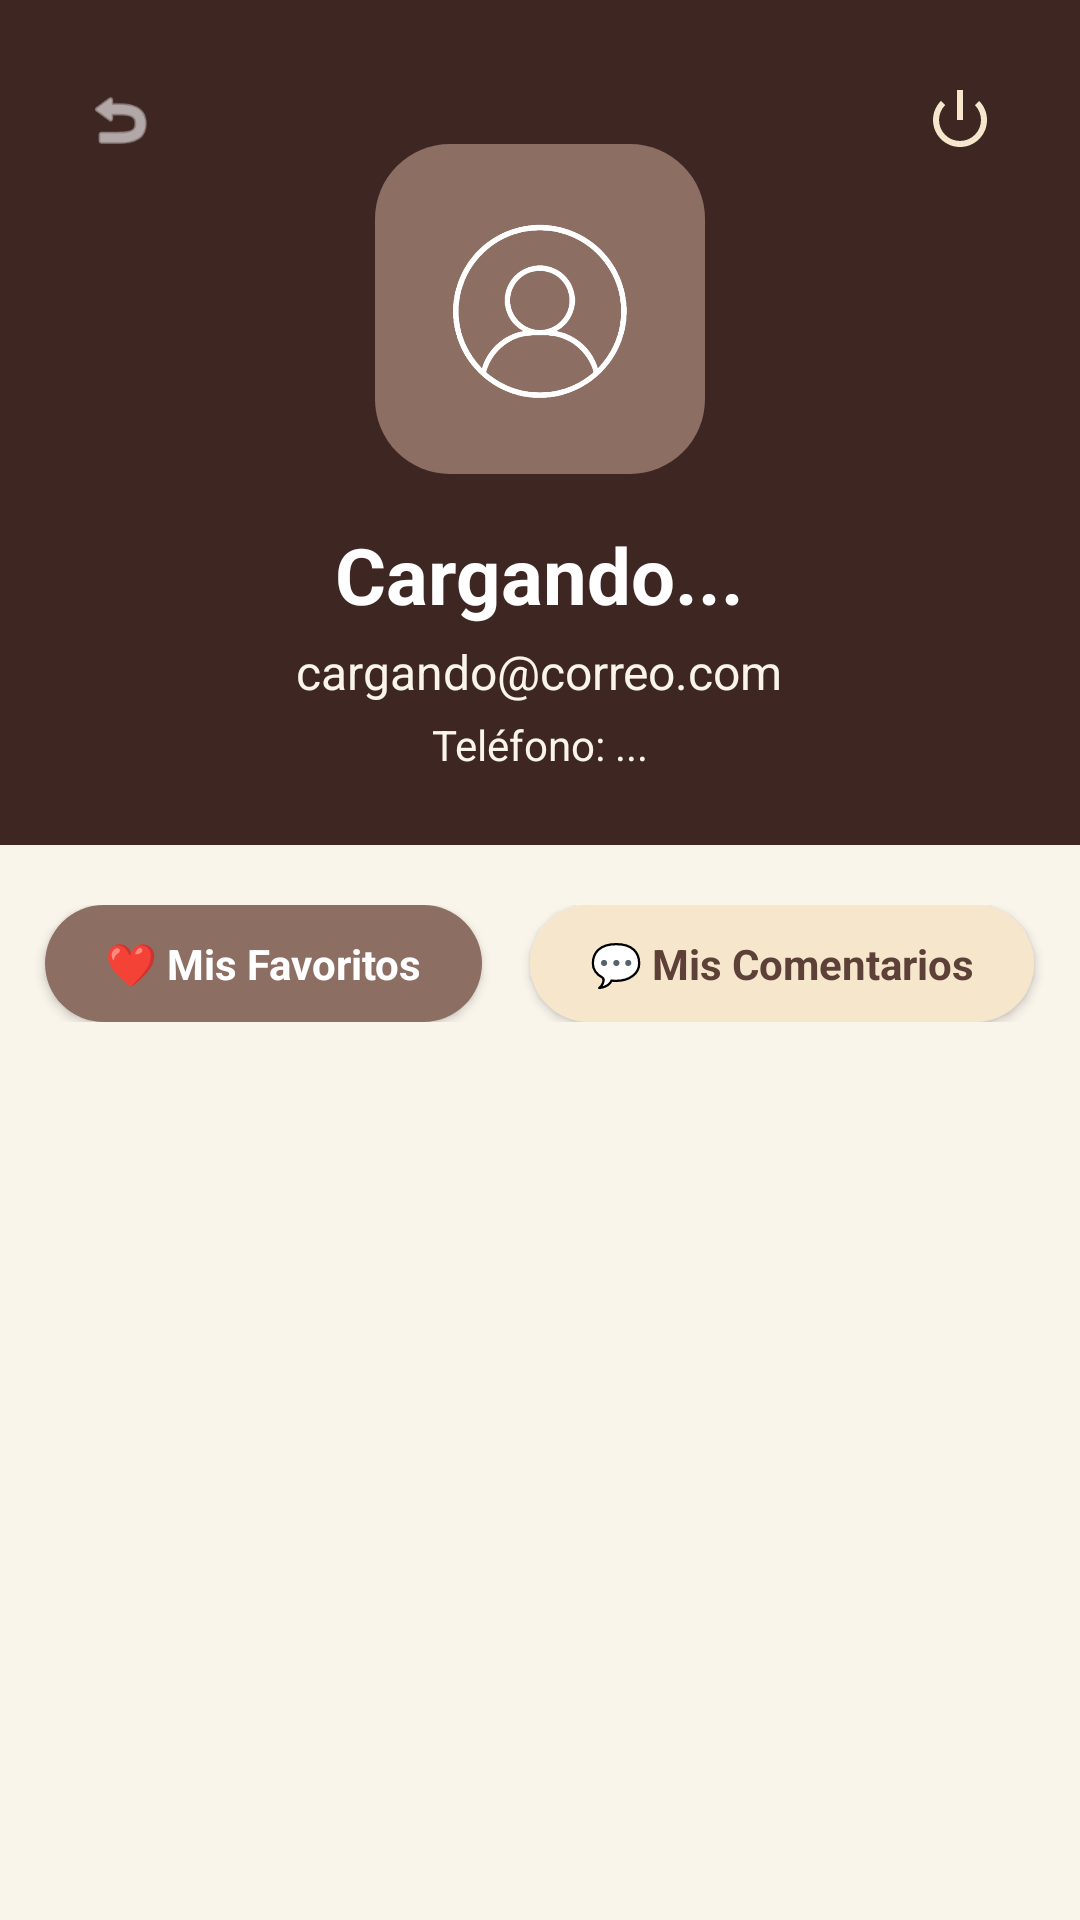

Where icons sit on this 1080 x 1920 app screen, as bbox(x1, y1, x2, y2):
lock power off: bbox(933, 90, 987, 147)
perfil: bbox(375, 144, 705, 474)
revert: bbox(95, 97, 147, 144)
